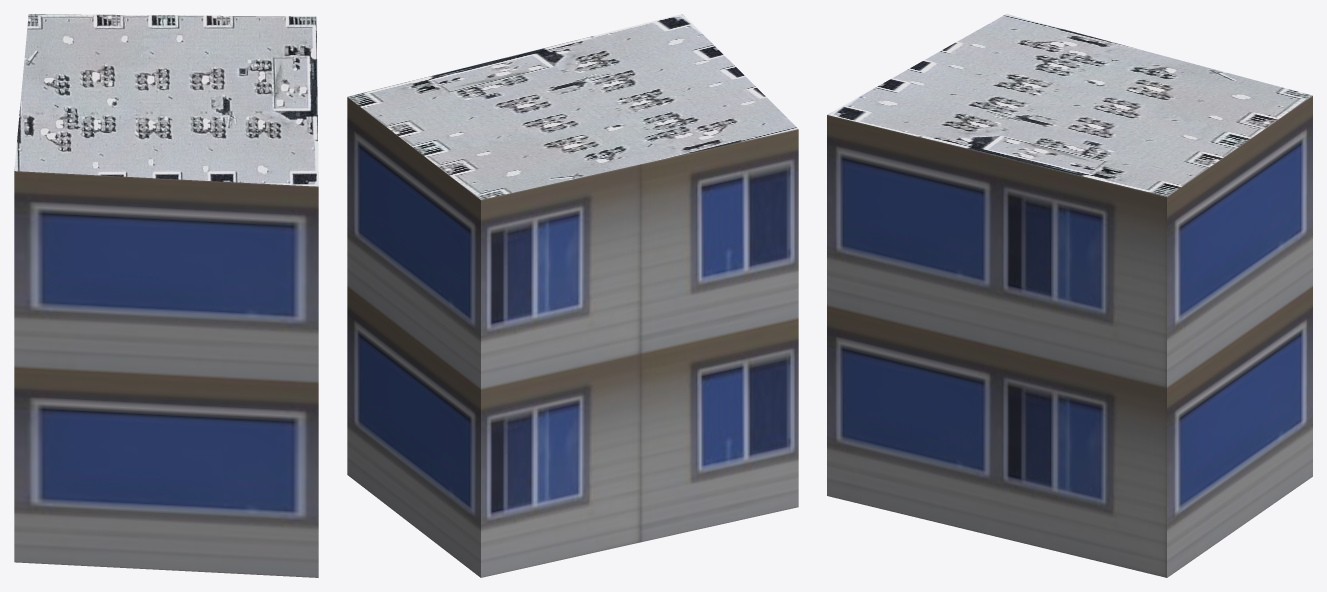
Rendered from ResTex__1817.fbx.
3 renders of one model, left to right at view 1: azimuth 30°, elevation 25°; view 2: azimuth 150°, elevation 25°; view 3: azimuth 270°, elevation 25°, orthographic. The views are drawn at different scales.
Parts seen in each view (by area): view 1: CityEngineMaterial_23_m, CityEngineMaterial_8_m; view 2: CityEngineMaterial_23_m, CityEngineMaterial_8_m; view 3: CityEngineMaterial_23_m, CityEngineMaterial_8_m.
Part boxes in pixels (x1=…): CityEngineMaterial_23_m: x1=14, y1=171, x2=318, y2=577; CityEngineMaterial_8_m: x1=14, y1=14, x2=318, y2=186; CityEngineMaterial_23_m: x1=347, y1=97, x2=798, y2=577; CityEngineMaterial_8_m: x1=347, y1=14, x2=798, y2=199; CityEngineMaterial_23_m: x1=827, y1=96, x2=1312, y2=577; CityEngineMaterial_8_m: x1=827, y1=14, x2=1312, y2=196.
Size of the model in its own units: 6.18 by 6 by 6.93.
2 materials, 2 textured.
